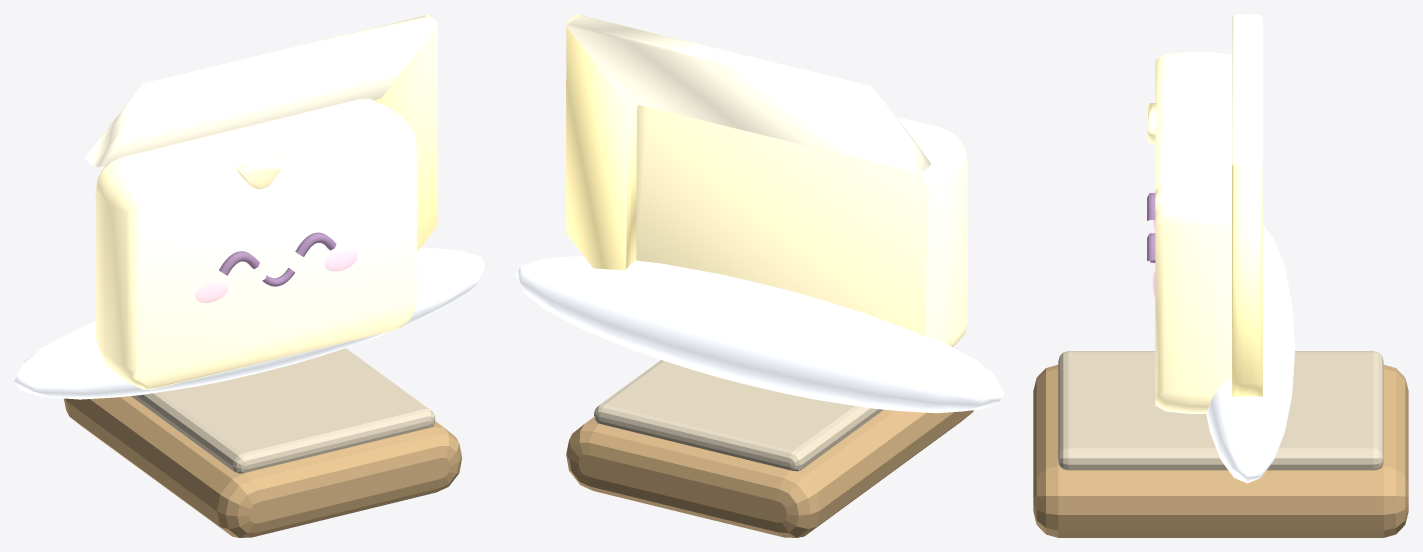
File: life_butter.glb
3 renders of one model, left to right at view 1: azimuth 30°, elevation 25°; view 2: azimuth 150°, elevation 25°; view 3: azimuth 270°, elevation 25°, orthographic. The views are drawn at different scales.
Parts seen in each view (by area): view 1: wrap_butter_1, life_butter; view 2: wrap_butter_1, life_butter; view 3: life_butter, wrap_butter_1.
Boxes of the visible parts, x1,y1,x2,y2 form: wrap_butter_1: [14, 14, 486, 399]; life_butter: [63, 348, 462, 537]; wrap_butter_1: [515, 14, 1004, 413]; life_butter: [566, 360, 973, 537]; life_butter: [1033, 351, 1408, 537]; wrap_butter_1: [1147, 14, 1294, 483].
Bounding box in the file's own units: 4.7 × 3.69 × 3.
